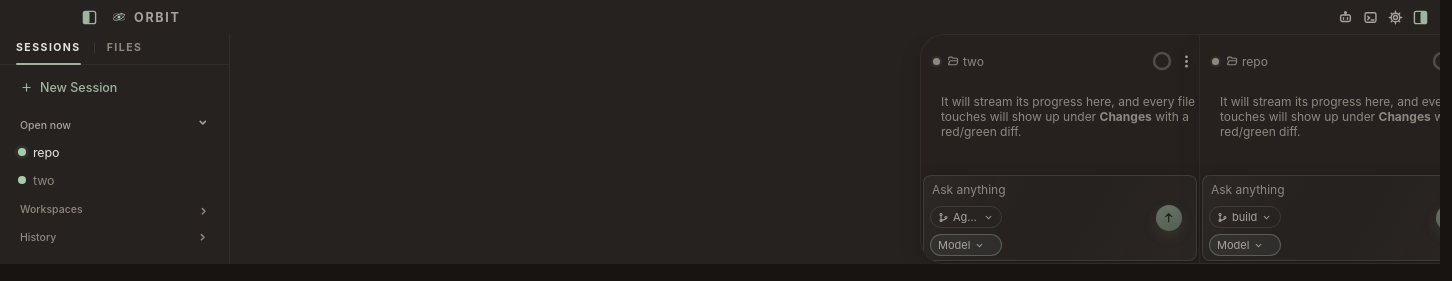
Test: Layout panel sizing › reopens a collapsed agent panel from the titlebar toggle
(page scrolled)
Click the button named "Hide agent panel" at (1420, 17), box [1409,4,1432,30]
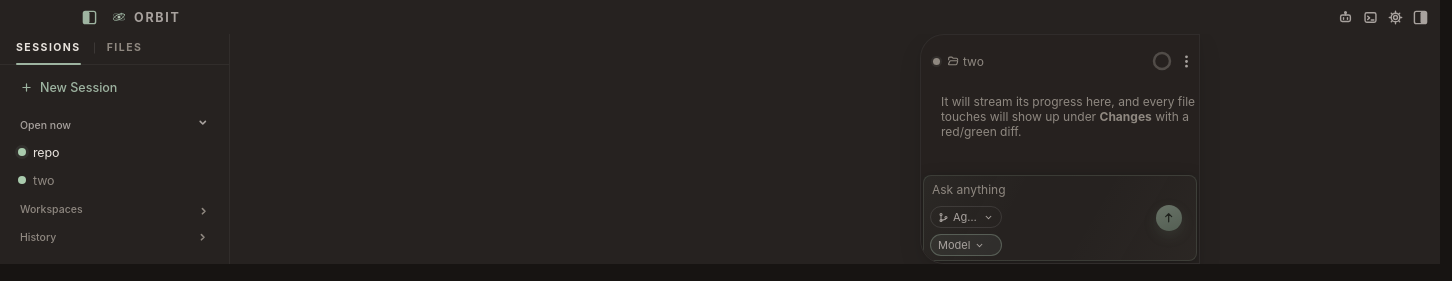
Expected: the number of elements with class "agent-panel" is 1, [920,34,1200,264]
Click the button named "Show agent panel" at (1420, 17), box [1409,4,1432,30]
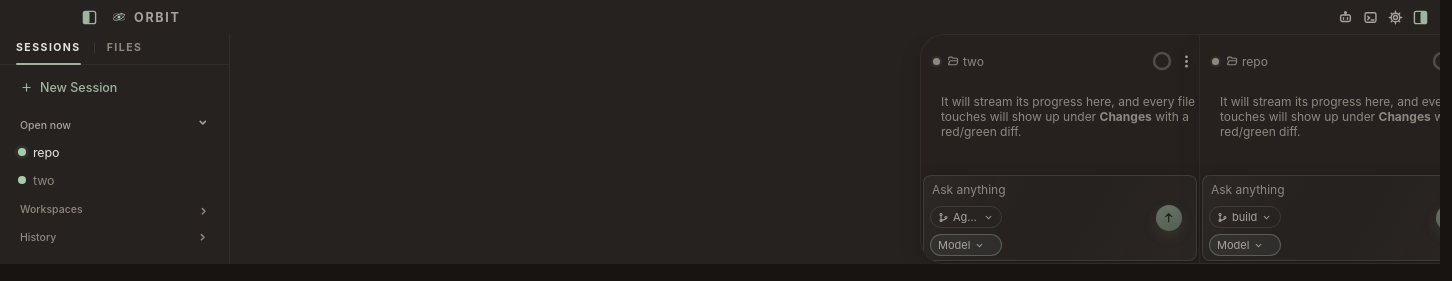
Expected: the number of elements with class "agent-panel" is 2, [920,34,1200,264]; [1200,34,1440,264]
